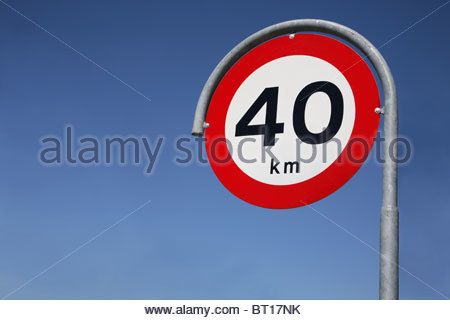Speed_limit_40km: (201, 31, 384, 208)
